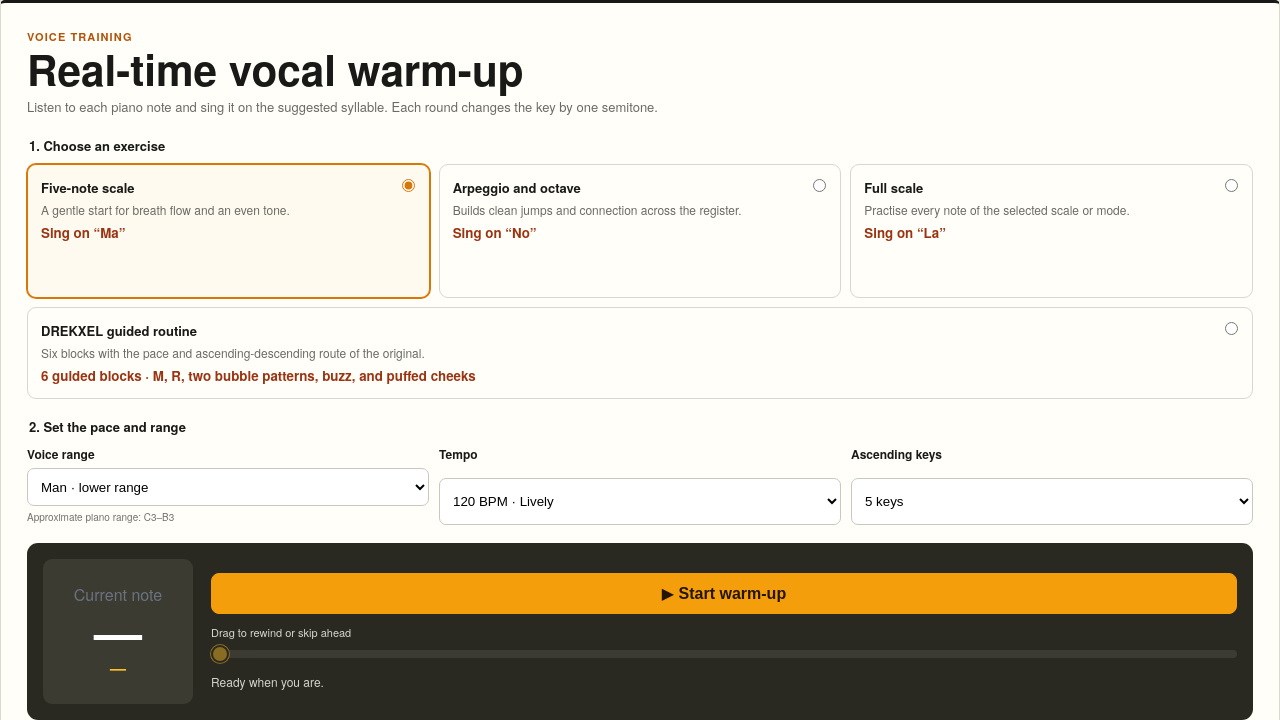
Test: SingingPractice › adapts the starting octave for male and female voice profiles
The width and height of the screenshot is (1280, 720).
Check: the text "Approximate piano range: C3–B3" is shown, box [27,510,174,524]
Select "Woman · higher range" in the dropdown labelled "Voice range Approximate piano range: C3–B3": (228, 487) [27,468,429,506]
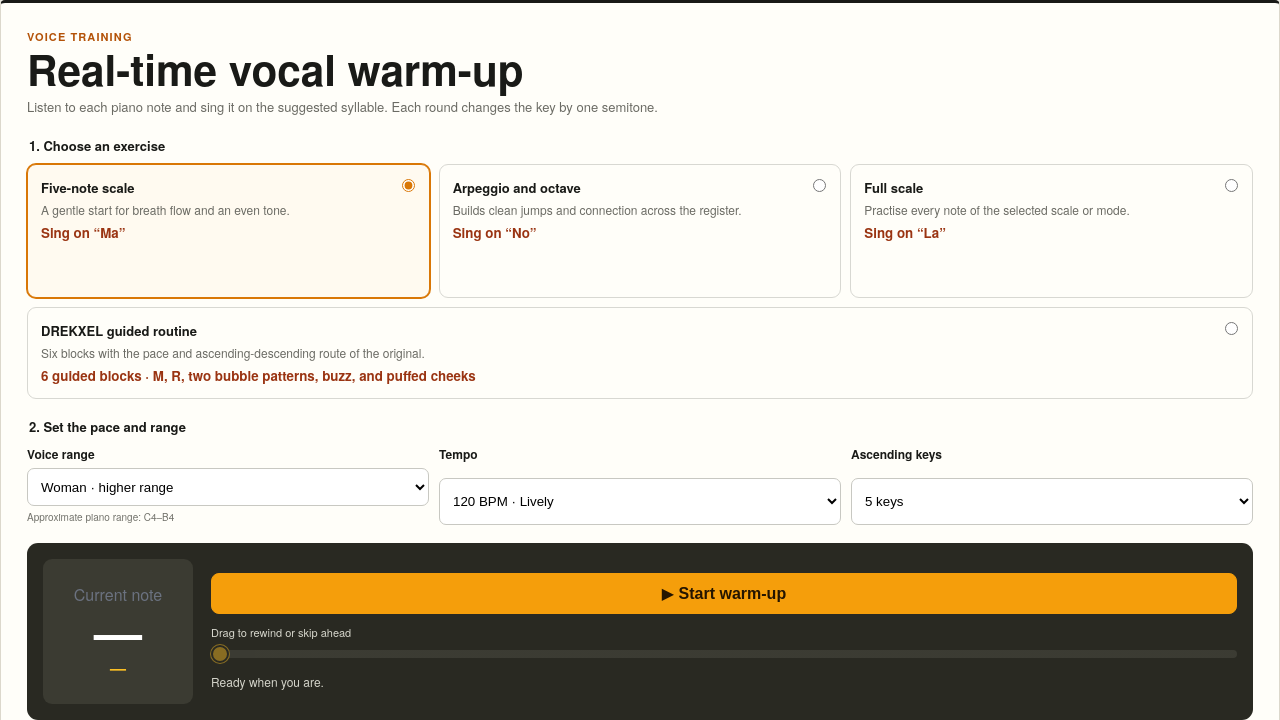
Check: the text "Approximate piano range: C4–B4" is shown, box [27,510,174,524]
